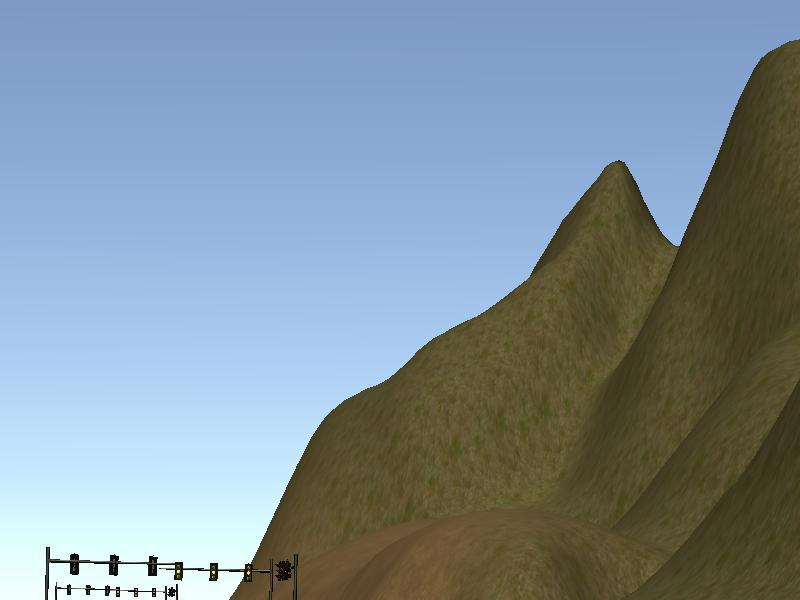Yellow: (209, 562, 218, 582), (243, 563, 252, 583), (174, 562, 182, 580)
